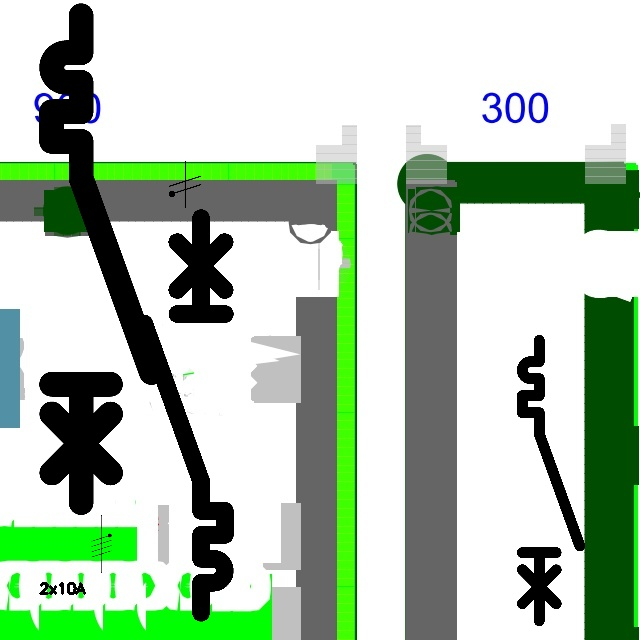interruptor_termomagnetico: (39, 3, 164, 515), (134, 207, 235, 622), (515, 333, 587, 628)
